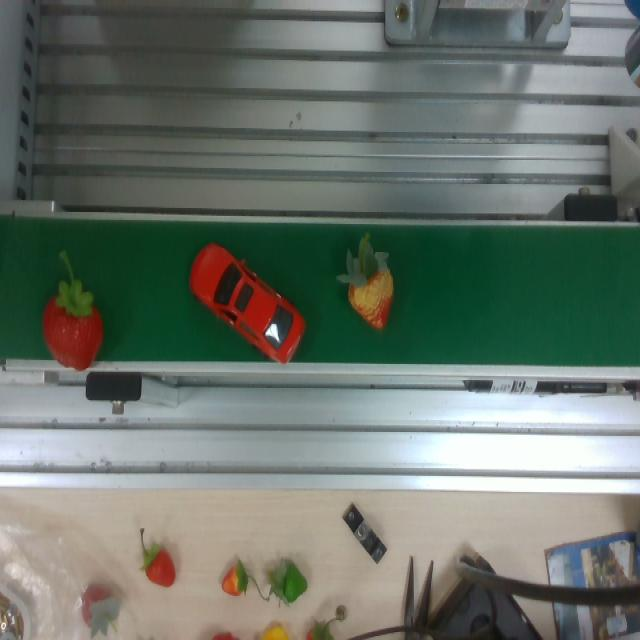Large Ripe Strawberry: (41, 248, 105, 371)
Moldy Strawberry: (335, 234, 403, 344)
None - Strawberry: (182, 233, 306, 365)
conveyor: (0, 206, 640, 383)
